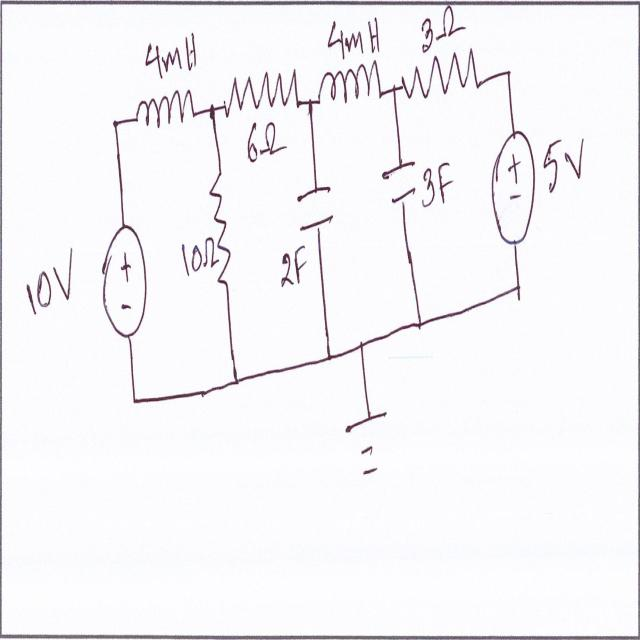capacitor: (293, 177, 340, 236), (381, 154, 420, 211)
ground: (343, 402, 393, 488)
inductor: (133, 85, 198, 141), (319, 63, 385, 109)
resistor: (402, 49, 486, 104), (209, 162, 243, 287), (222, 72, 304, 116)
voltage_source: (96, 216, 149, 343), (487, 126, 538, 248)
